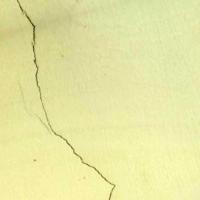crack: (8, 0, 122, 199)
